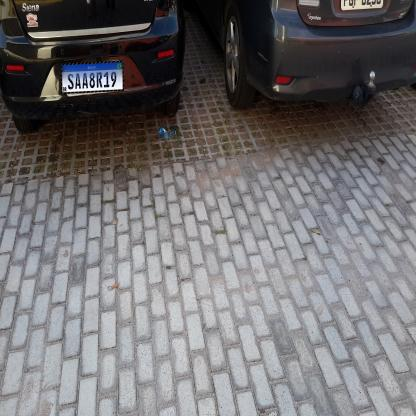PlacaM: (61, 61, 124, 94)
